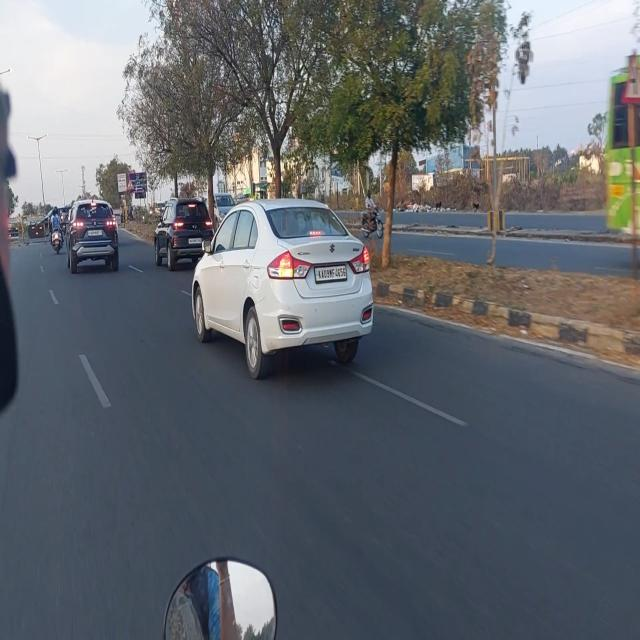bien_cam: (126, 176, 134, 194)
